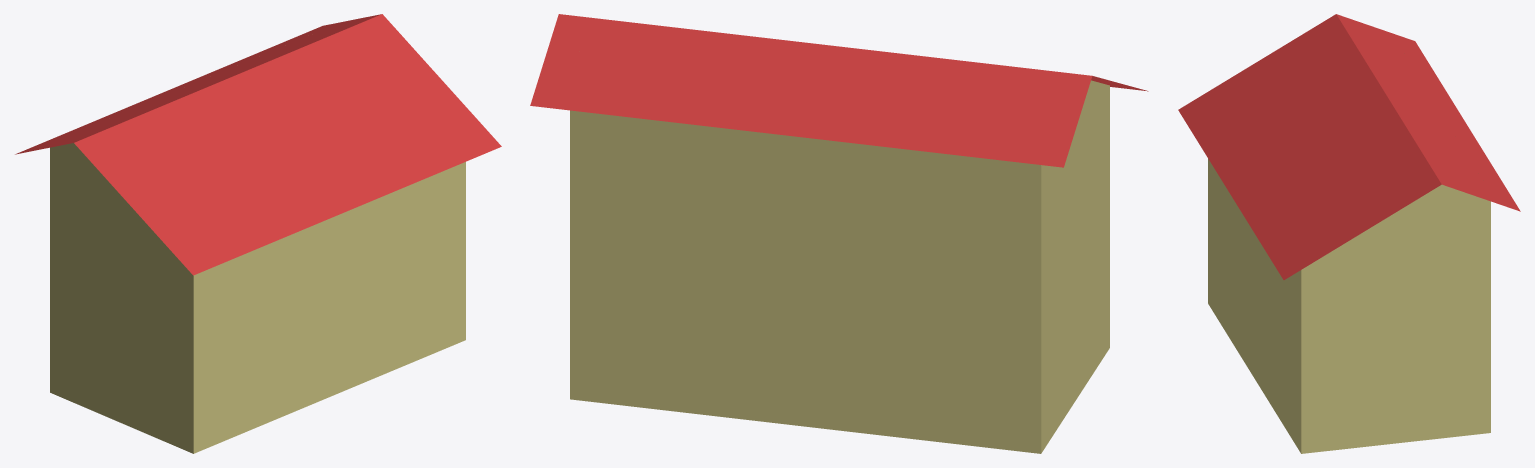
3 renders of one model, left to right at view 1: azimuth 30°, elevation 25°; view 2: azimuth 150°, elevation 25°; view 3: azimuth 270°, elevation 25°, orthographic. The views are drawn at different scales.
Size of the model in its own units: 14.29 by 10.52 by 8.95.
